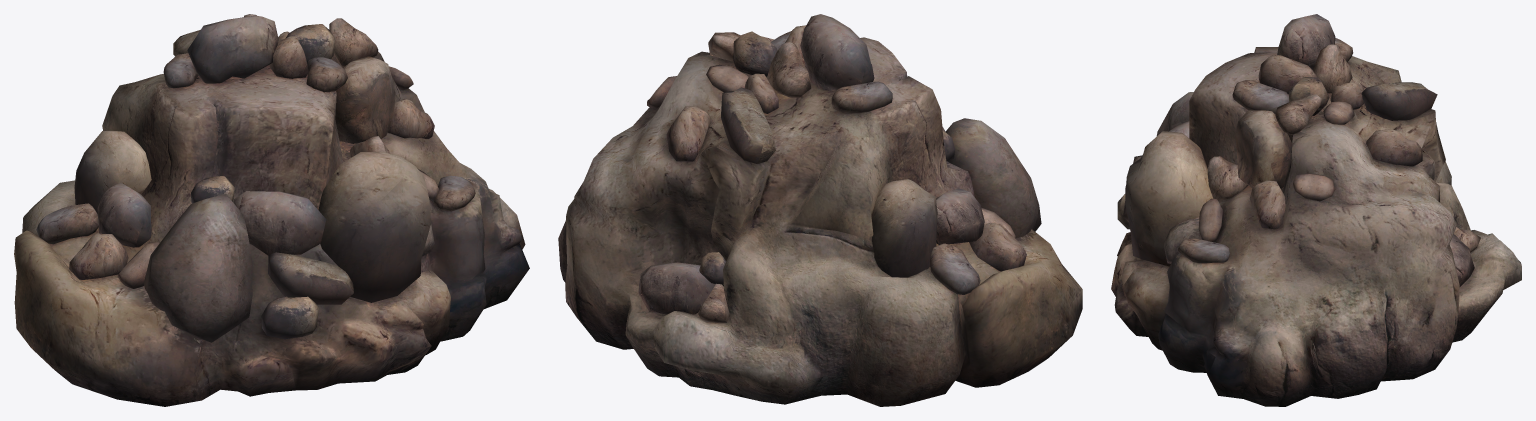
Rendered from Rock 04.FBX.
3 renders of one model, left to right at view 1: azimuth 30°, elevation 25°; view 2: azimuth 150°, elevation 25°; view 3: azimuth 270°, elevation 25°, orthographic. The views are drawn at different scales.
Visible parts, largest first — view 1: Rock 04; view 2: Rock 04; view 3: Rock 04.
Part boxes in pixels (bbox=[...]): Rock 04: bbox=[14, 14, 529, 406]; Rock 04: bbox=[558, 14, 1082, 406]; Rock 04: bbox=[1111, 14, 1521, 406].
Bounding box in the file's own units: 110 × 66.7 × 89.08.
